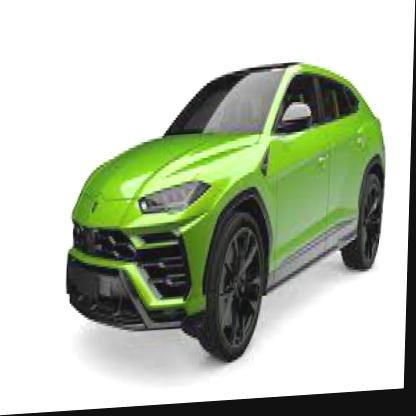Car: (65, 62, 388, 374)
